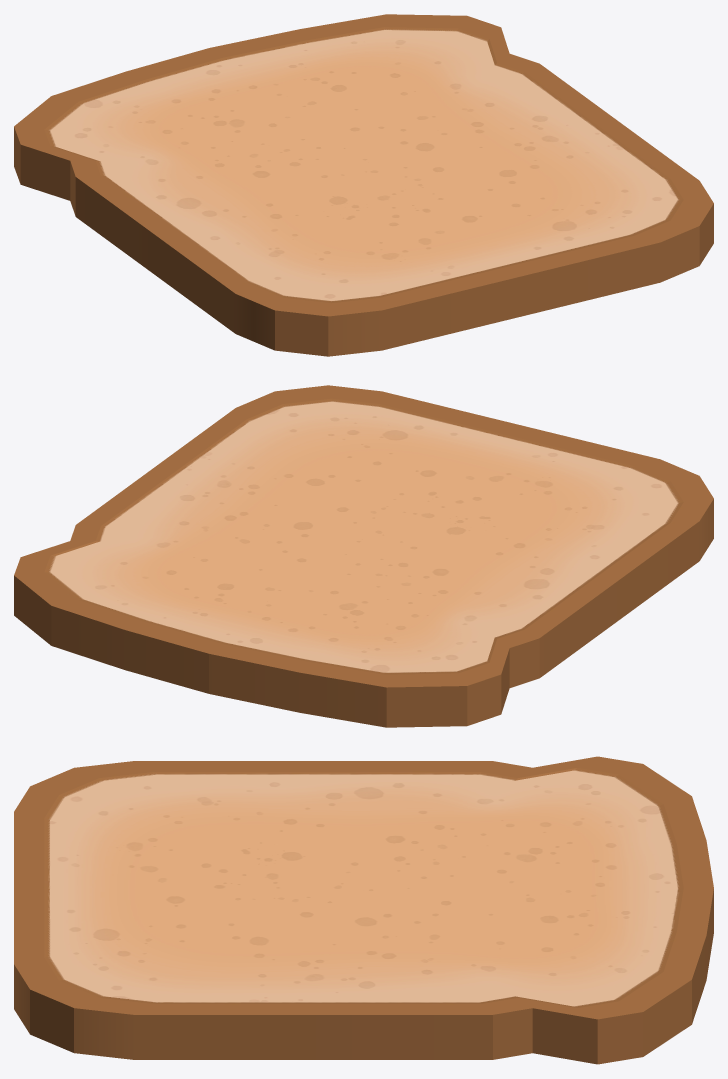
Rendered from toast.fbx.
3 views of the same model, one above another, from view 1: azimuth 30°, elevation 25°; view 2: azimuth 150°, elevation 25°; view 3: azimuth 270°, elevation 25° (orthographic). The views are drawn at different scales.
Visible parts, largest first — view 1: toast; view 2: toast; view 3: toast.
Boxes of the visible parts, bbox=[...] form: toast: bbox=[14, 14, 713, 356]; toast: bbox=[14, 385, 713, 727]; toast: bbox=[14, 756, 713, 1064].
Bounding box in the file's own units: 60.33 × 4.82 × 67.87.
Materials: 1 (1 with a texture image).
